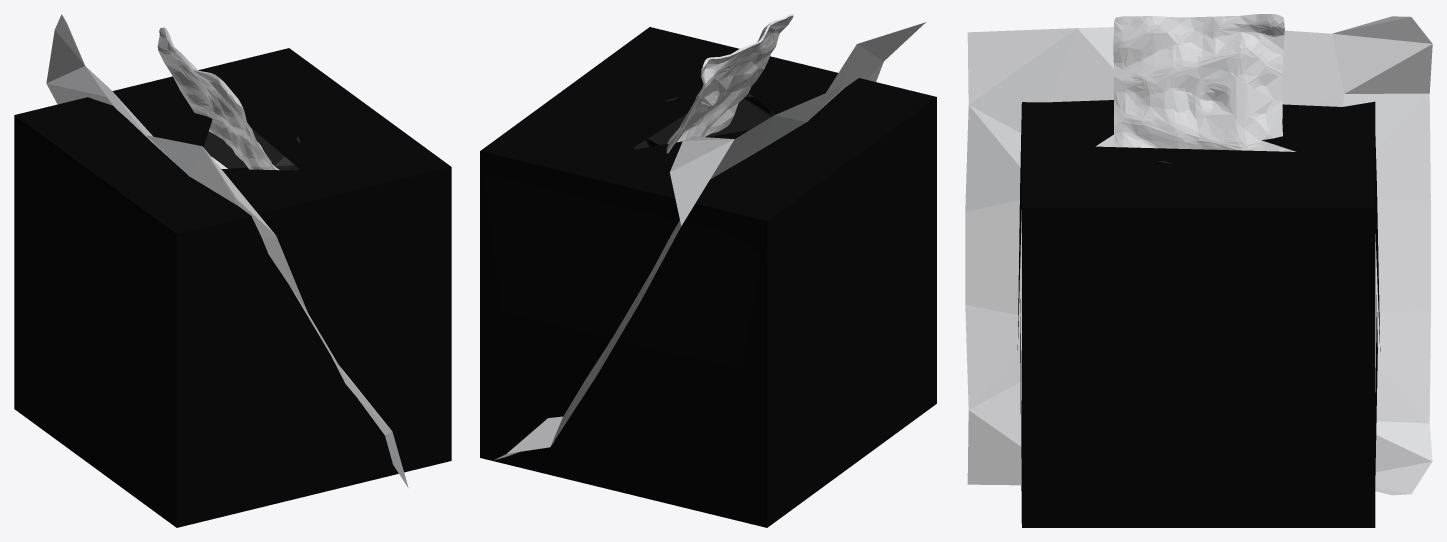
Rendered from imp-tissues.glb.
3 renders of one model, left to right at view 1: azimuth 30°, elevation 25°; view 2: azimuth 150°, elevation 25°; view 3: azimuth 270°, elevation 25°, orthographic. The views are drawn at different scales.
Visible parts, largest first — view 1: Plane_1 (×2), Plane.001_0 (×3); view 2: Plane_1 (×2), Plane.001_0 (×3); view 3: Plane_1 (×2), Plane.001_0 (×3).
Boxes of the visible parts, x1=… form: Plane_1 (×2): x1=14, y1=48, x2=451, y2=527; Plane.001_0 (×3): x1=46, y1=14, x2=408, y2=487; Plane_1 (×2): x1=480, y1=27, x2=936, y2=527; Plane.001_0 (×3): x1=494, y1=14, x2=925, y2=460; Plane_1 (×2): x1=1017, y1=100, x2=1380, y2=527; Plane.001_0 (×3): x1=965, y1=14, x2=1432, y2=495.
Size of the model in its own units: 0.1846 by 0.25 by 0.25.
4 materials, 1 textured.
